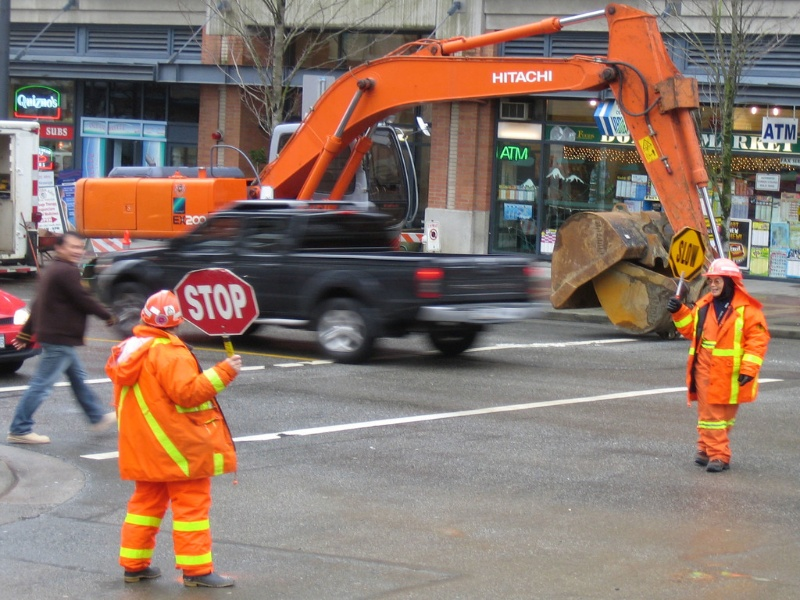go_slow: (666, 225, 708, 281)
stop: (169, 265, 262, 338)
